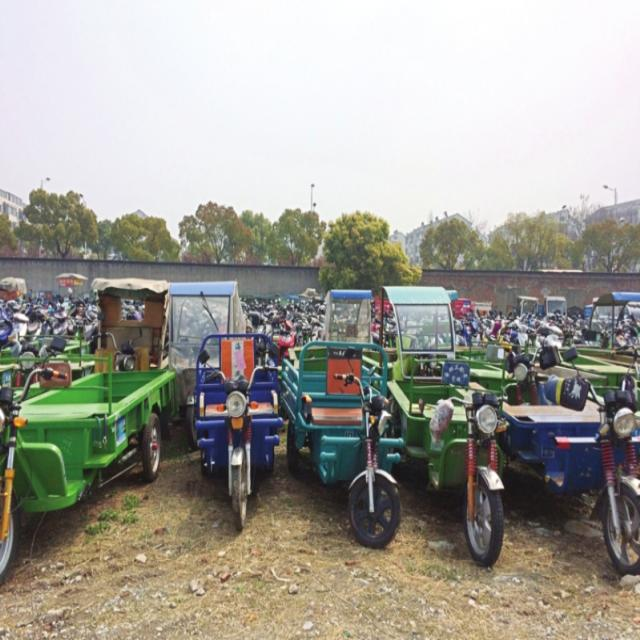tricycle: (0, 349, 175, 579), (502, 348, 640, 575), (392, 347, 515, 564), (278, 337, 403, 545), (190, 332, 284, 530), (167, 278, 241, 452), (365, 284, 454, 376), (91, 273, 168, 369)
